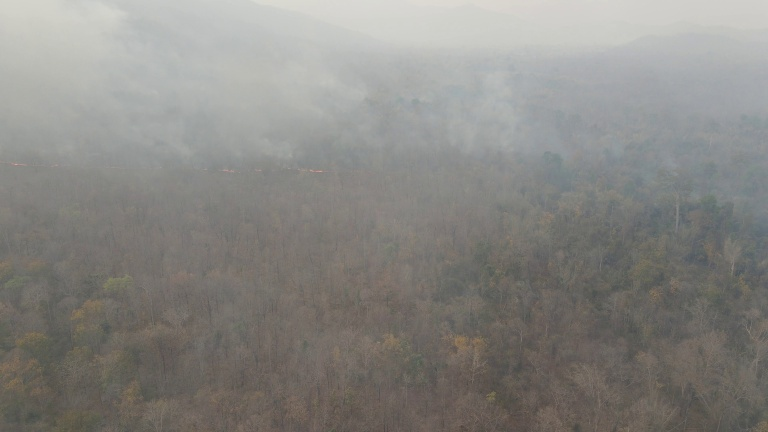fire: (1, 150, 337, 180)
smoke: (1, 1, 768, 172)
